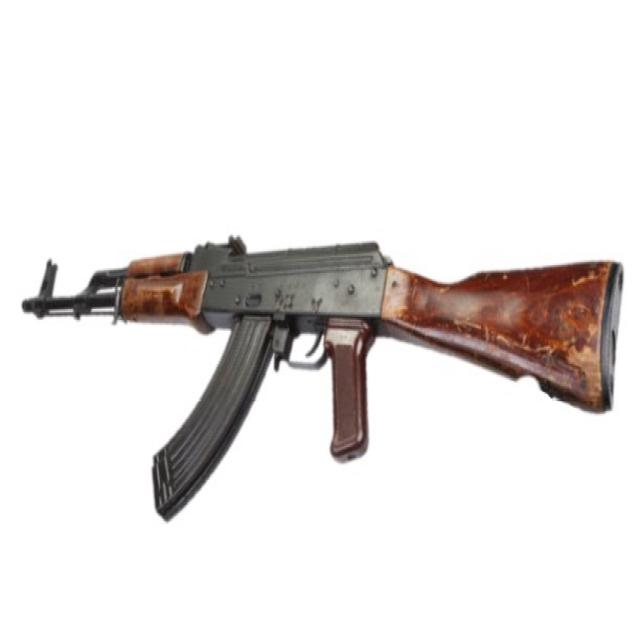rifle: (15, 232, 630, 545)
